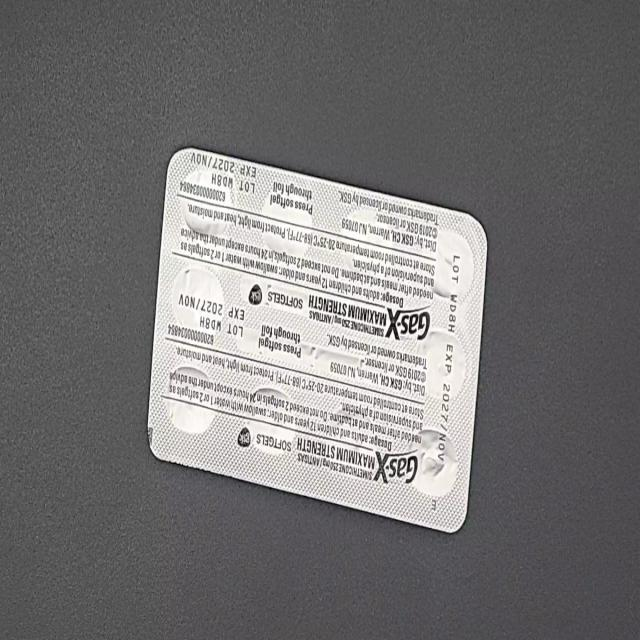no defect: (8, 13, 32, 54)
